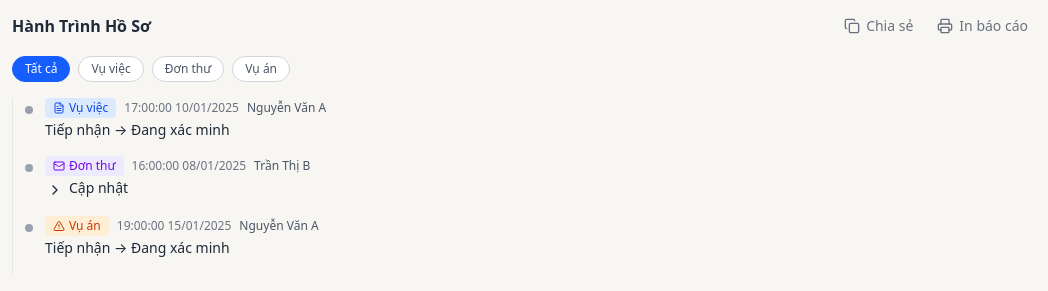
Test: HoSoJourney › TC-J16: filter chip "Vụ việc" hides Petition and Incident events
Check: the element with test id "event-case-sh-001" is shown, box top-left (25, 98), bottom-right (326, 139)
Check: the element with test id "event-audit-pet-001" is shown, box top-left (25, 156), bottom-right (310, 200)
Click the button with test id "filter-chip-CASE" at (111, 69), box top-left (78, 56), bottom-right (144, 82)
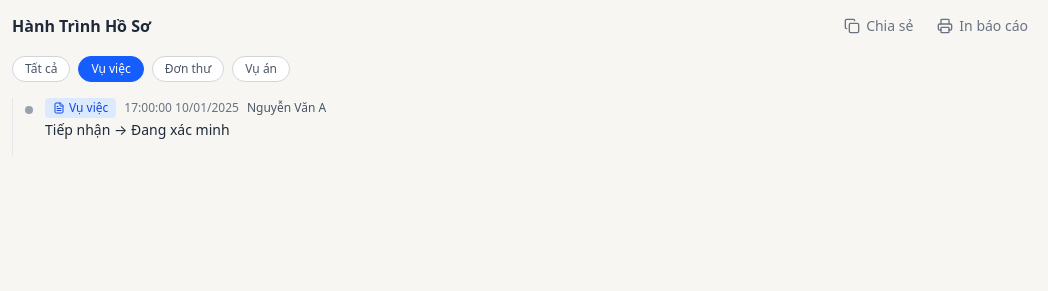
Check: the element with test id "event-case-sh-001" is shown, box top-left (25, 98), bottom-right (326, 139)
Check: the element with test id "event-audit-pet-001" is gone
Check: the element with test id "event-incident-sh-001" is gone
